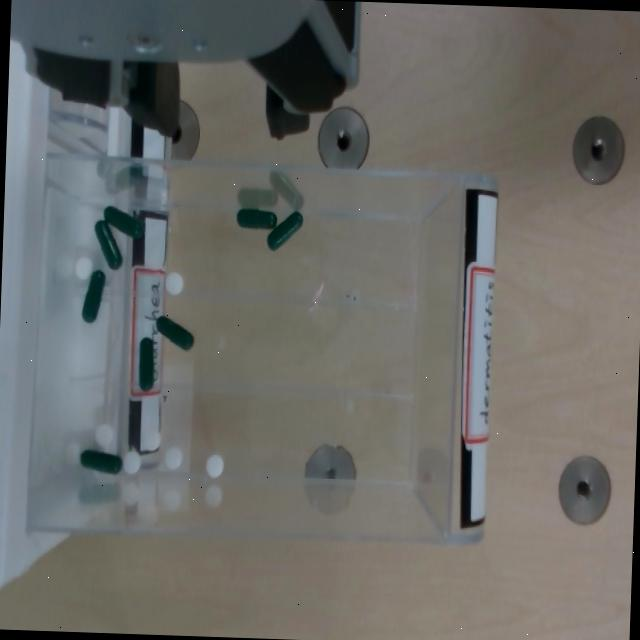ganakan_tab: (163, 270, 183, 298), (73, 254, 93, 281), (94, 421, 114, 448), (163, 443, 183, 470), (142, 427, 161, 452), (205, 452, 224, 477), (95, 423, 113, 449), (122, 450, 140, 475), (165, 446, 183, 470), (123, 450, 141, 474), (206, 454, 223, 479), (166, 272, 184, 295), (75, 256, 92, 280)
monodoxy_cap: (266, 209, 303, 254), (92, 219, 123, 271), (154, 316, 195, 354), (103, 206, 146, 241), (81, 270, 107, 327), (267, 211, 303, 250), (156, 316, 194, 351), (95, 221, 122, 270), (80, 450, 123, 478), (82, 271, 105, 323), (104, 207, 142, 238), (235, 207, 277, 232), (80, 450, 122, 475), (138, 337, 155, 391), (237, 208, 277, 230), (139, 338, 154, 391)
